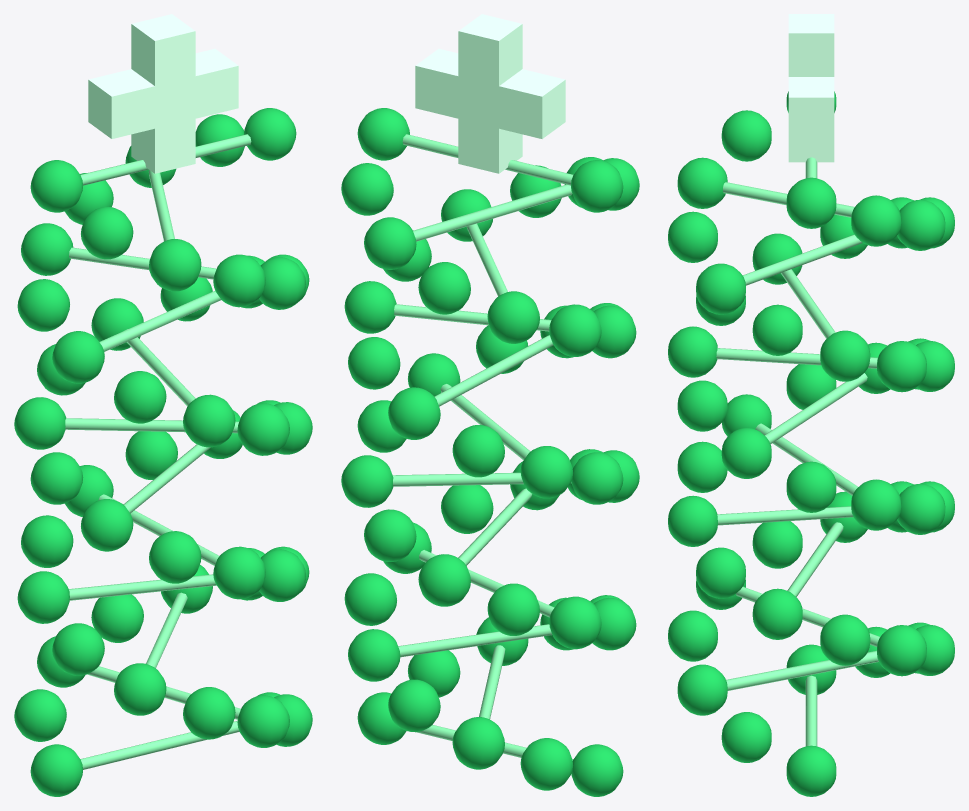
Rendered from med.glb.
3 views of the same model, side by side, from view 1: azimuth 30°, elevation 25°; view 2: azimuth 150°, elevation 25°; view 3: azimuth 270°, elevation 25° (orthographic). The views are drawn at different scales.
Size of the model in its own units: 0.7312 by 2 by 0.7218.
